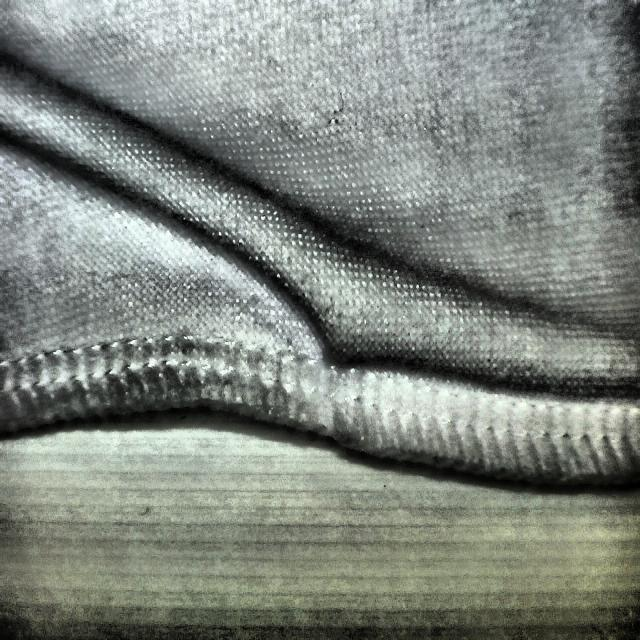gray stitch: (268, 253, 451, 458)
